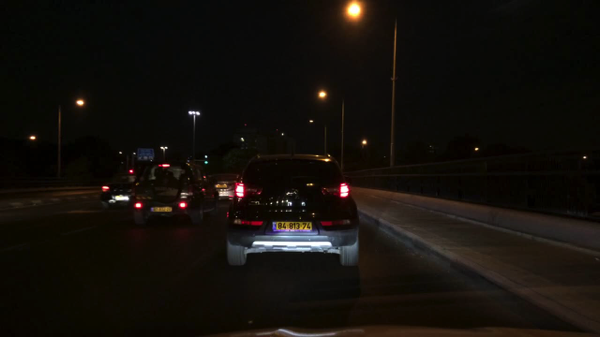car: (225, 150, 359, 268), (130, 155, 221, 226), (96, 174, 136, 216), (210, 173, 240, 204)
traffic sign: (136, 147, 154, 161)
